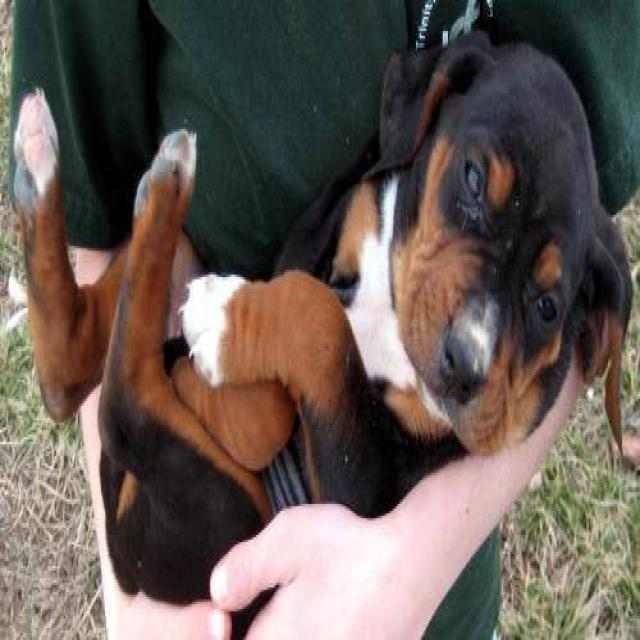dog: (11, 26, 634, 638)
